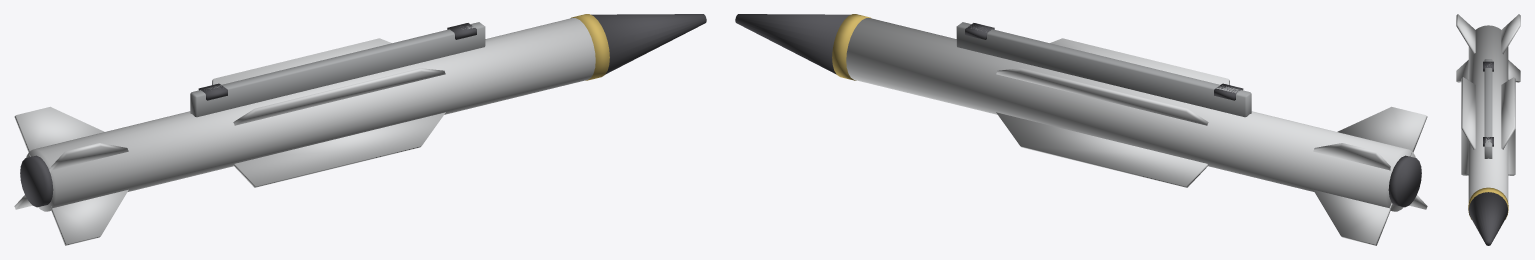
The model's file is arm_1.glb.
3 views of the same model, side by side, from view 1: azimuth 30°, elevation 25°; view 2: azimuth 150°, elevation 25°; view 3: azimuth 270°, elevation 25° (orthographic). The views are drawn at different scales.
Visible parts, largest first — view 1: arm_1; view 2: arm_1; view 3: arm_1.
Part boxes in pixels (bbox=[...]): arm_1: bbox=[14, 14, 706, 245]; arm_1: bbox=[735, 14, 1427, 245]; arm_1: bbox=[1456, 14, 1520, 245].
Size of the model in its own units: 0.971 by 0.1334 by 0.1308.
